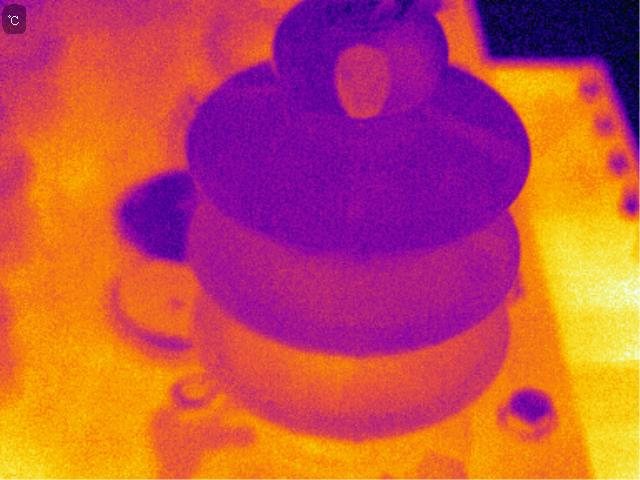Oil: (429, 103, 529, 174), (331, 41, 393, 122)
